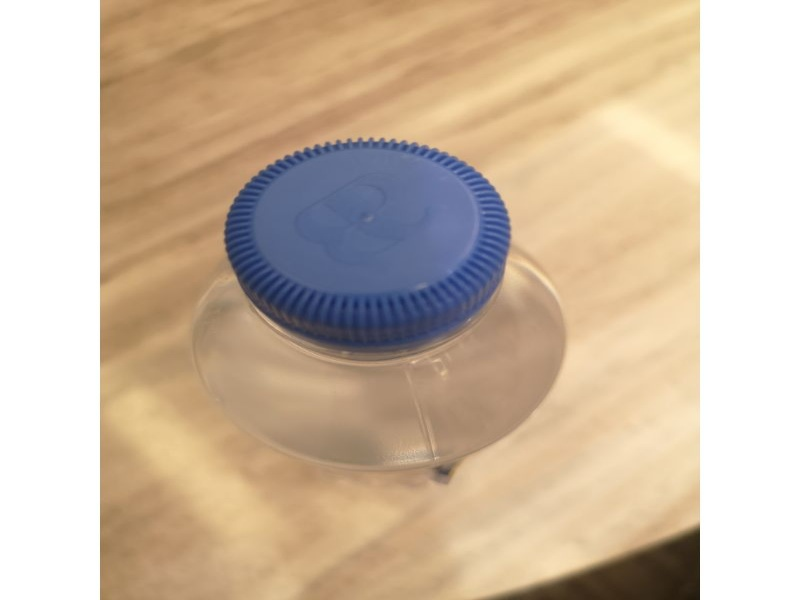PET #1: (192, 128, 580, 499)
